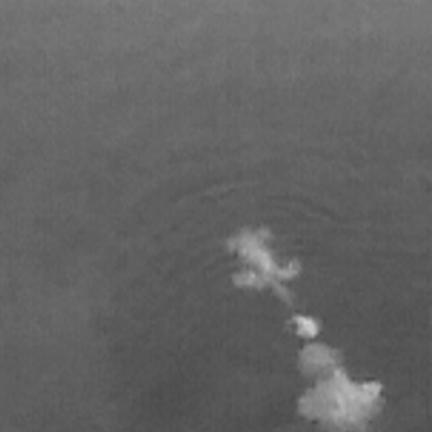flukeprints: (228, 229, 300, 305), (299, 369, 381, 431), (300, 342, 339, 378), (292, 315, 320, 338)
